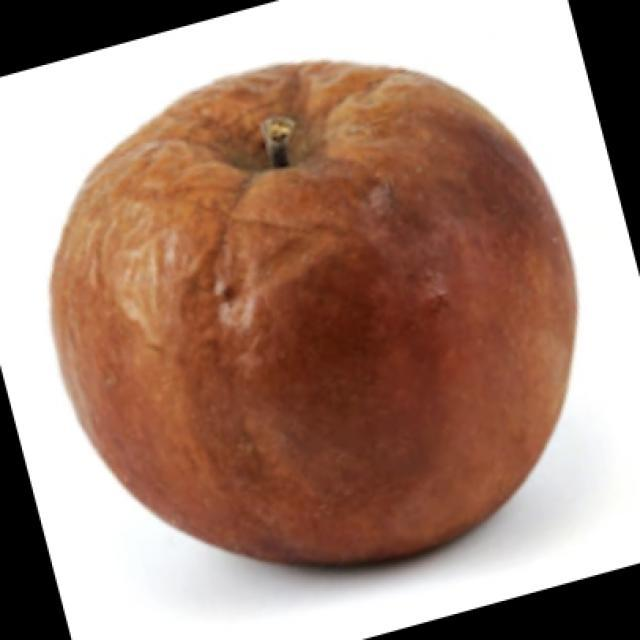Rotten: (42, 53, 568, 570)
